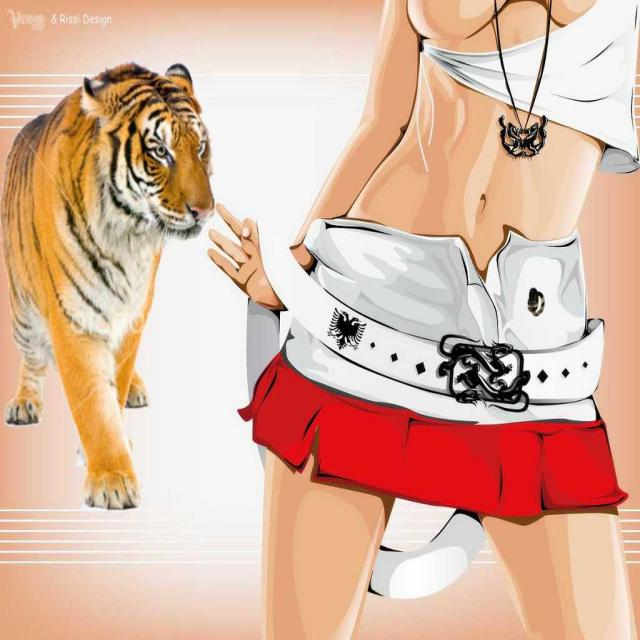Tiger: (0, 56, 216, 510)
